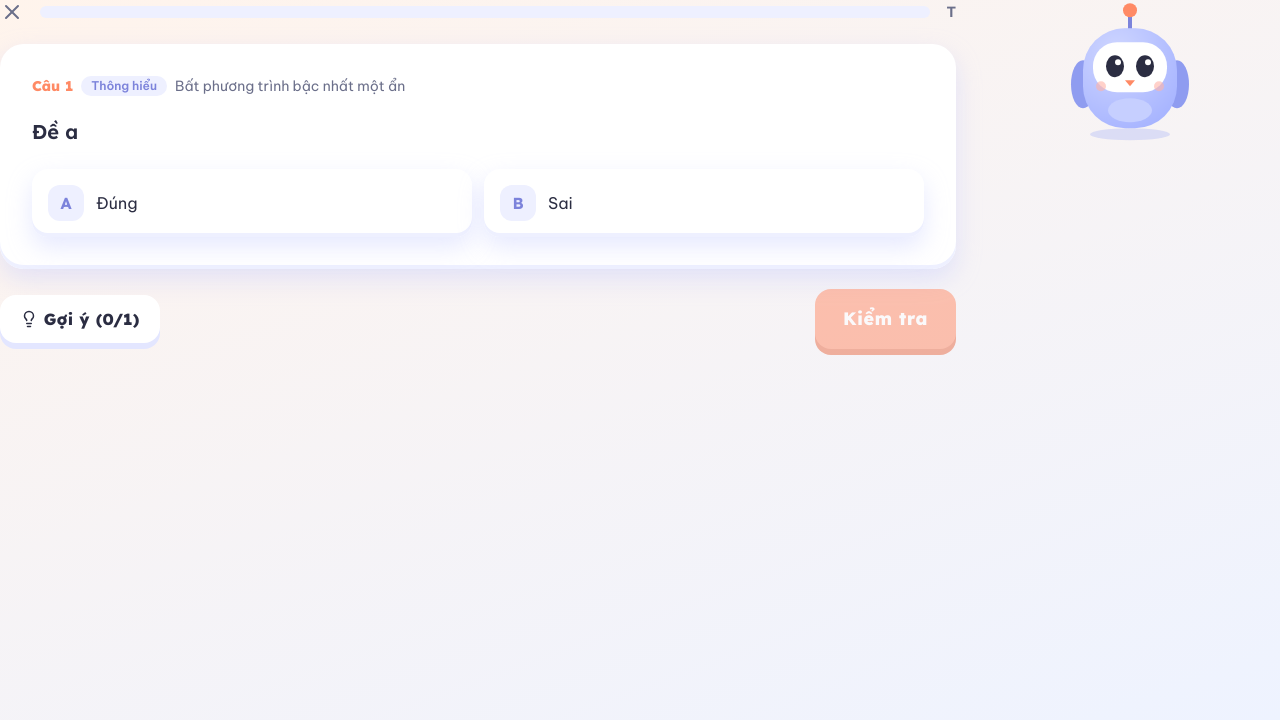
PracticeRunner › answers, shows feedback, advances and finishes at maxQuestions
The width and height of the screenshot is (1280, 720).
expect the text "Đề a" is shown: met, box x1=32 y1=119 x2=78 y2=144
Click the button "A Đúng".
click(66, 202)  # box x1=32 y1=168 x2=472 y2=236
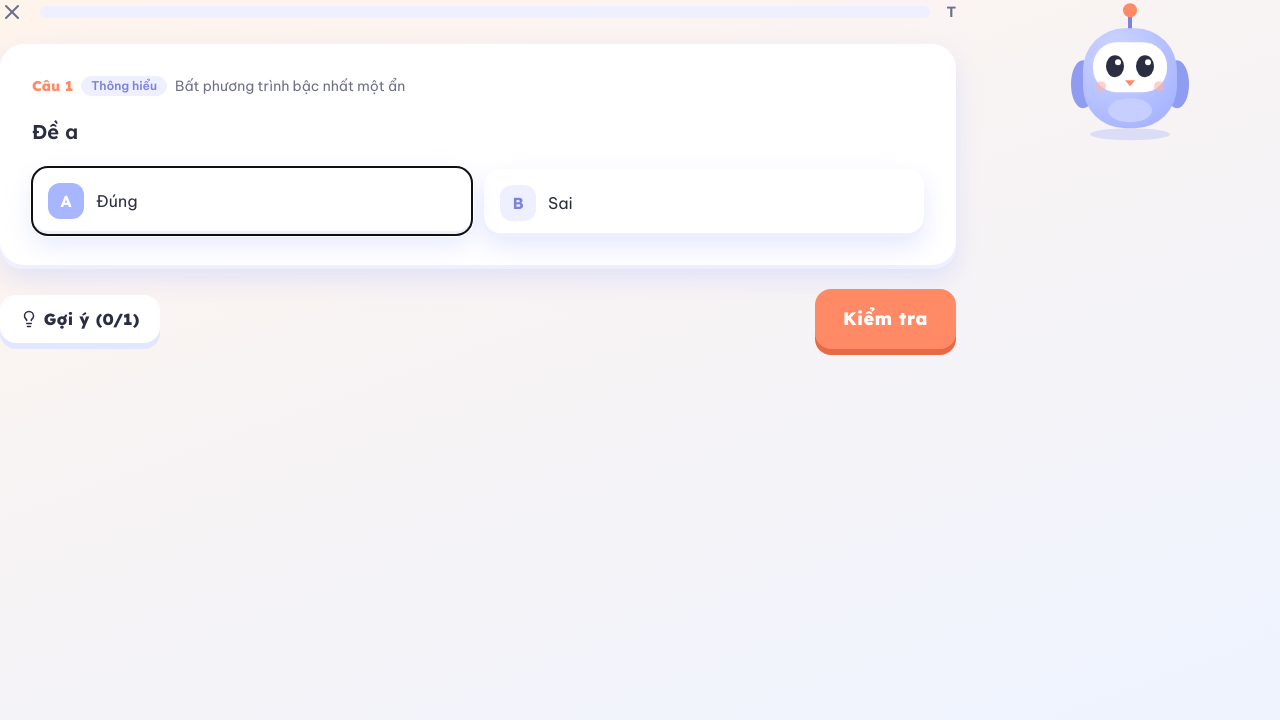
Click the button "Kiểm tra".
click(886, 318)  # box x1=815 y1=288 x2=956 y2=348
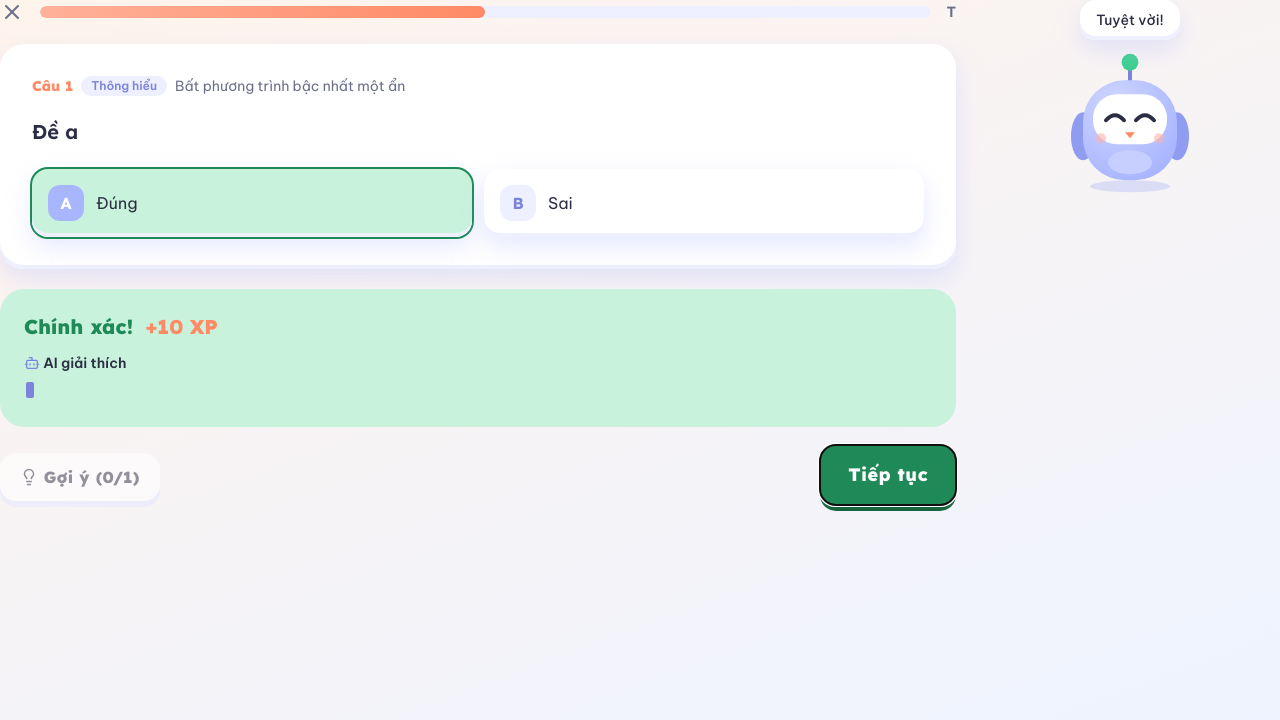
expect the text "Chính xác!+10 XP" is shown: met, box x1=24 y1=314 x2=218 y2=338
Click the button "Tiếp tục".
click(888, 474)  # box x1=820 y1=444 x2=956 y2=504
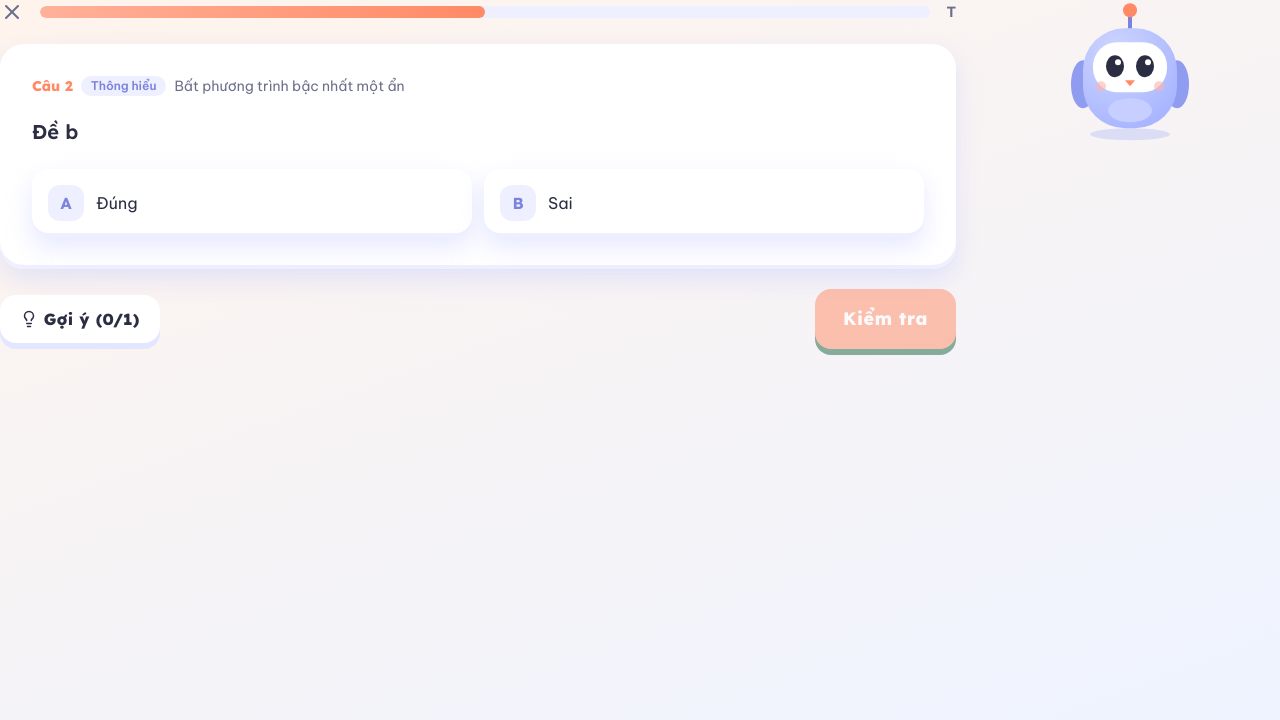
expect the text "Đề b" is shown: met, box x1=32 y1=119 x2=78 y2=144
Click the button "B Sai".
click(518, 202)  # box x1=484 y1=168 x2=924 y2=236
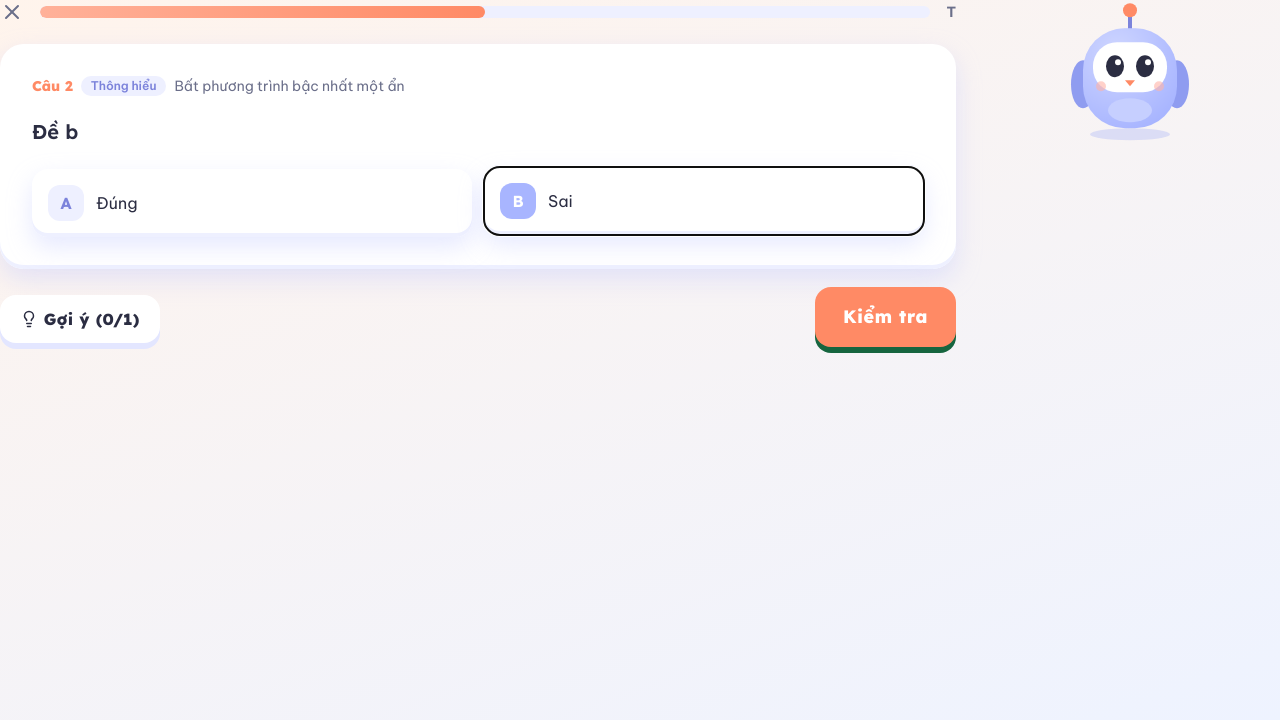
Click the button "Kiểm tra".
click(886, 316)  # box x1=815 y1=286 x2=956 y2=346
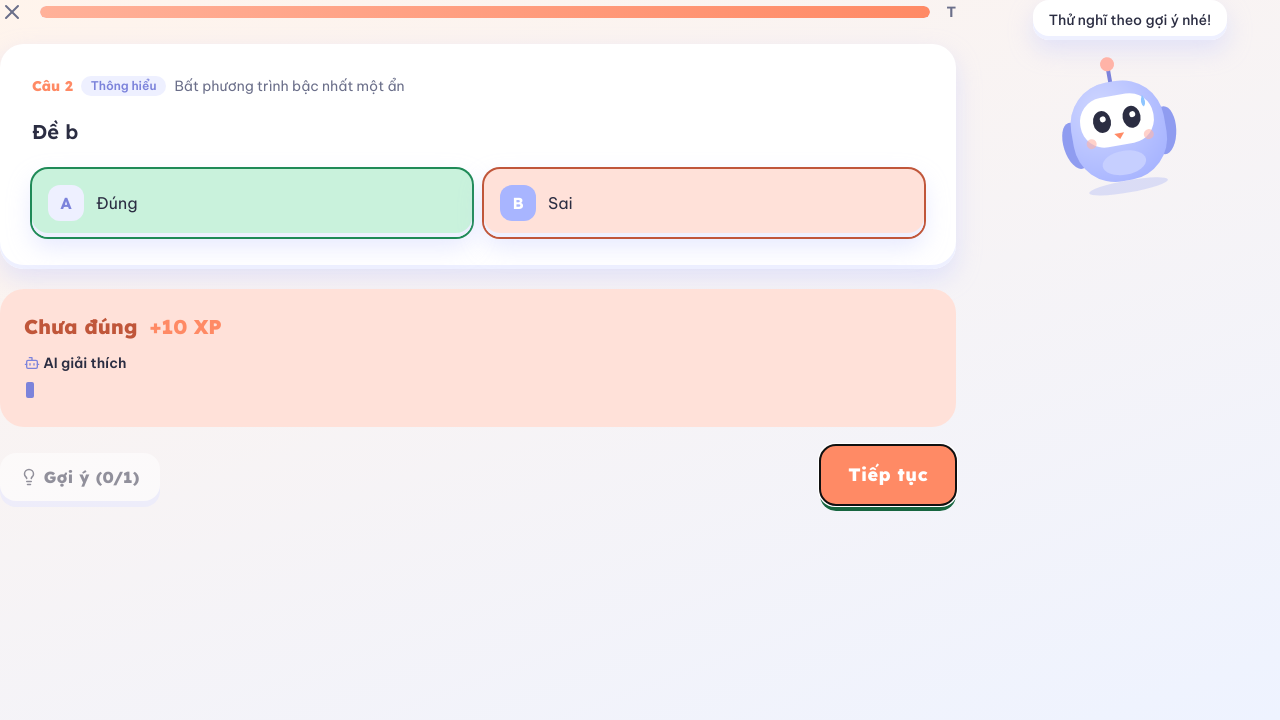
Click the button "Tiếp tục".
click(888, 474)  # box x1=820 y1=444 x2=956 y2=504
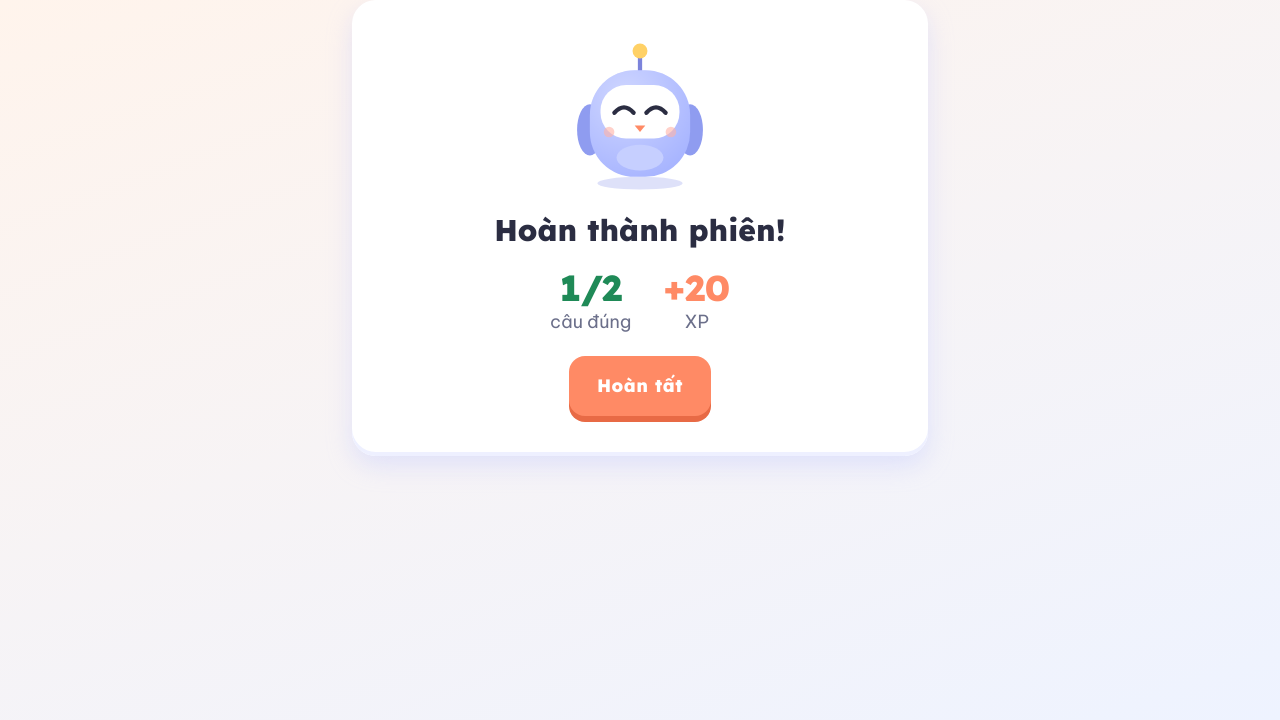
expect the heading "Hoàn thành phiên!" is shown: met, box x1=494 y1=211 x2=786 y2=249
expect the text "1/2" is shown: met, box x1=560 y1=265 x2=622 y2=310
